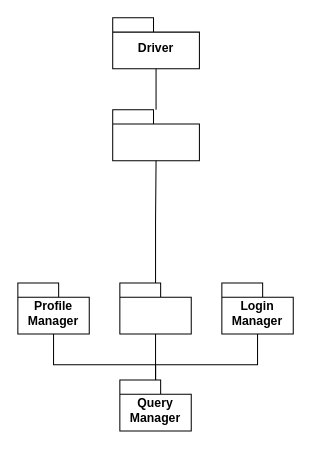
Image size: 311x449. Some labels were removed from this diagram. The shapes that lost their labels are listed below. From the top down, each one's box as (x1, y1, x2, y2) in pixels, then its label:
(112, 109, 199, 161): Questionnaire Manager
(119, 282, 191, 334): Notification Manager
